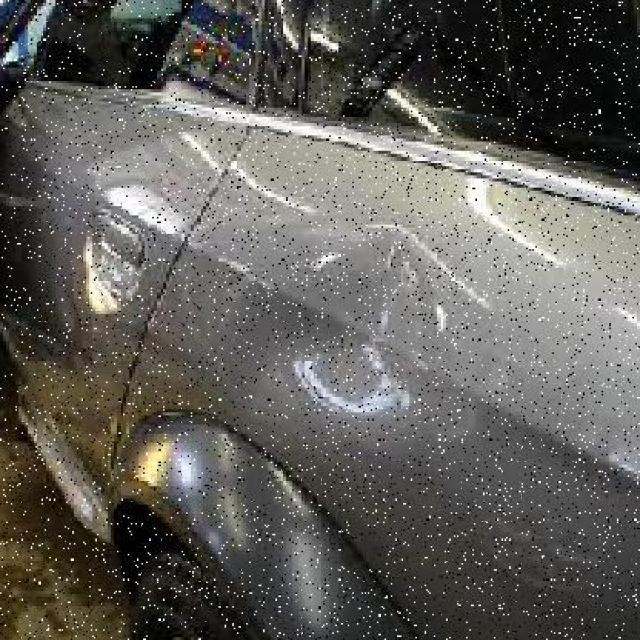car damage: (286, 218, 456, 416)
